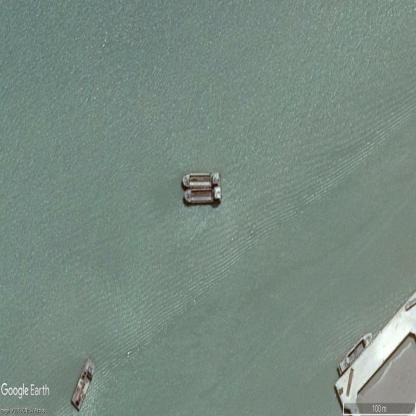ship: (337, 331, 373, 375), (70, 355, 96, 412), (183, 186, 221, 203), (182, 173, 221, 188)
